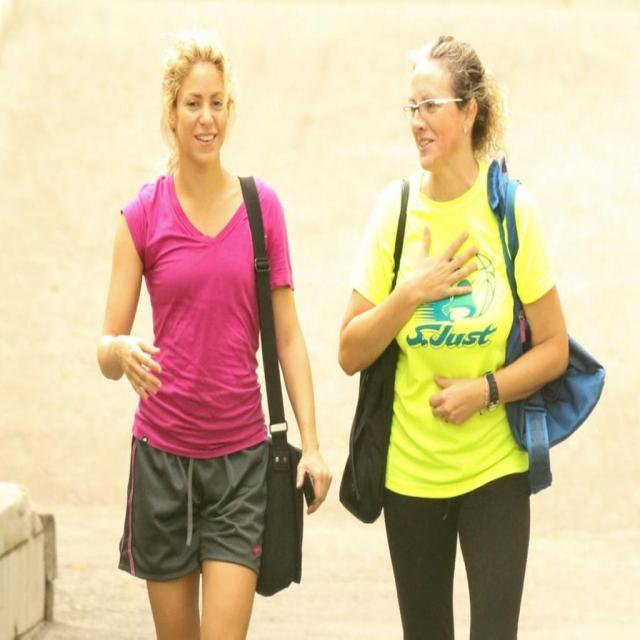Face: (162, 50, 241, 172), (406, 59, 485, 175)
